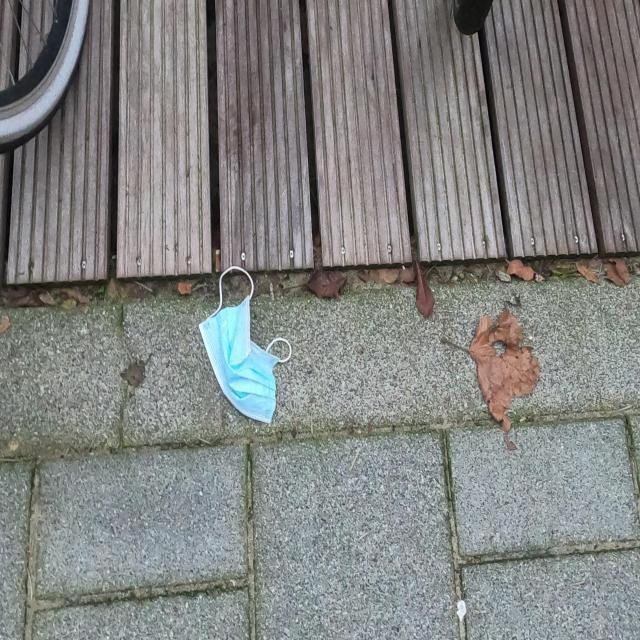Mask: (195, 264, 294, 428)
